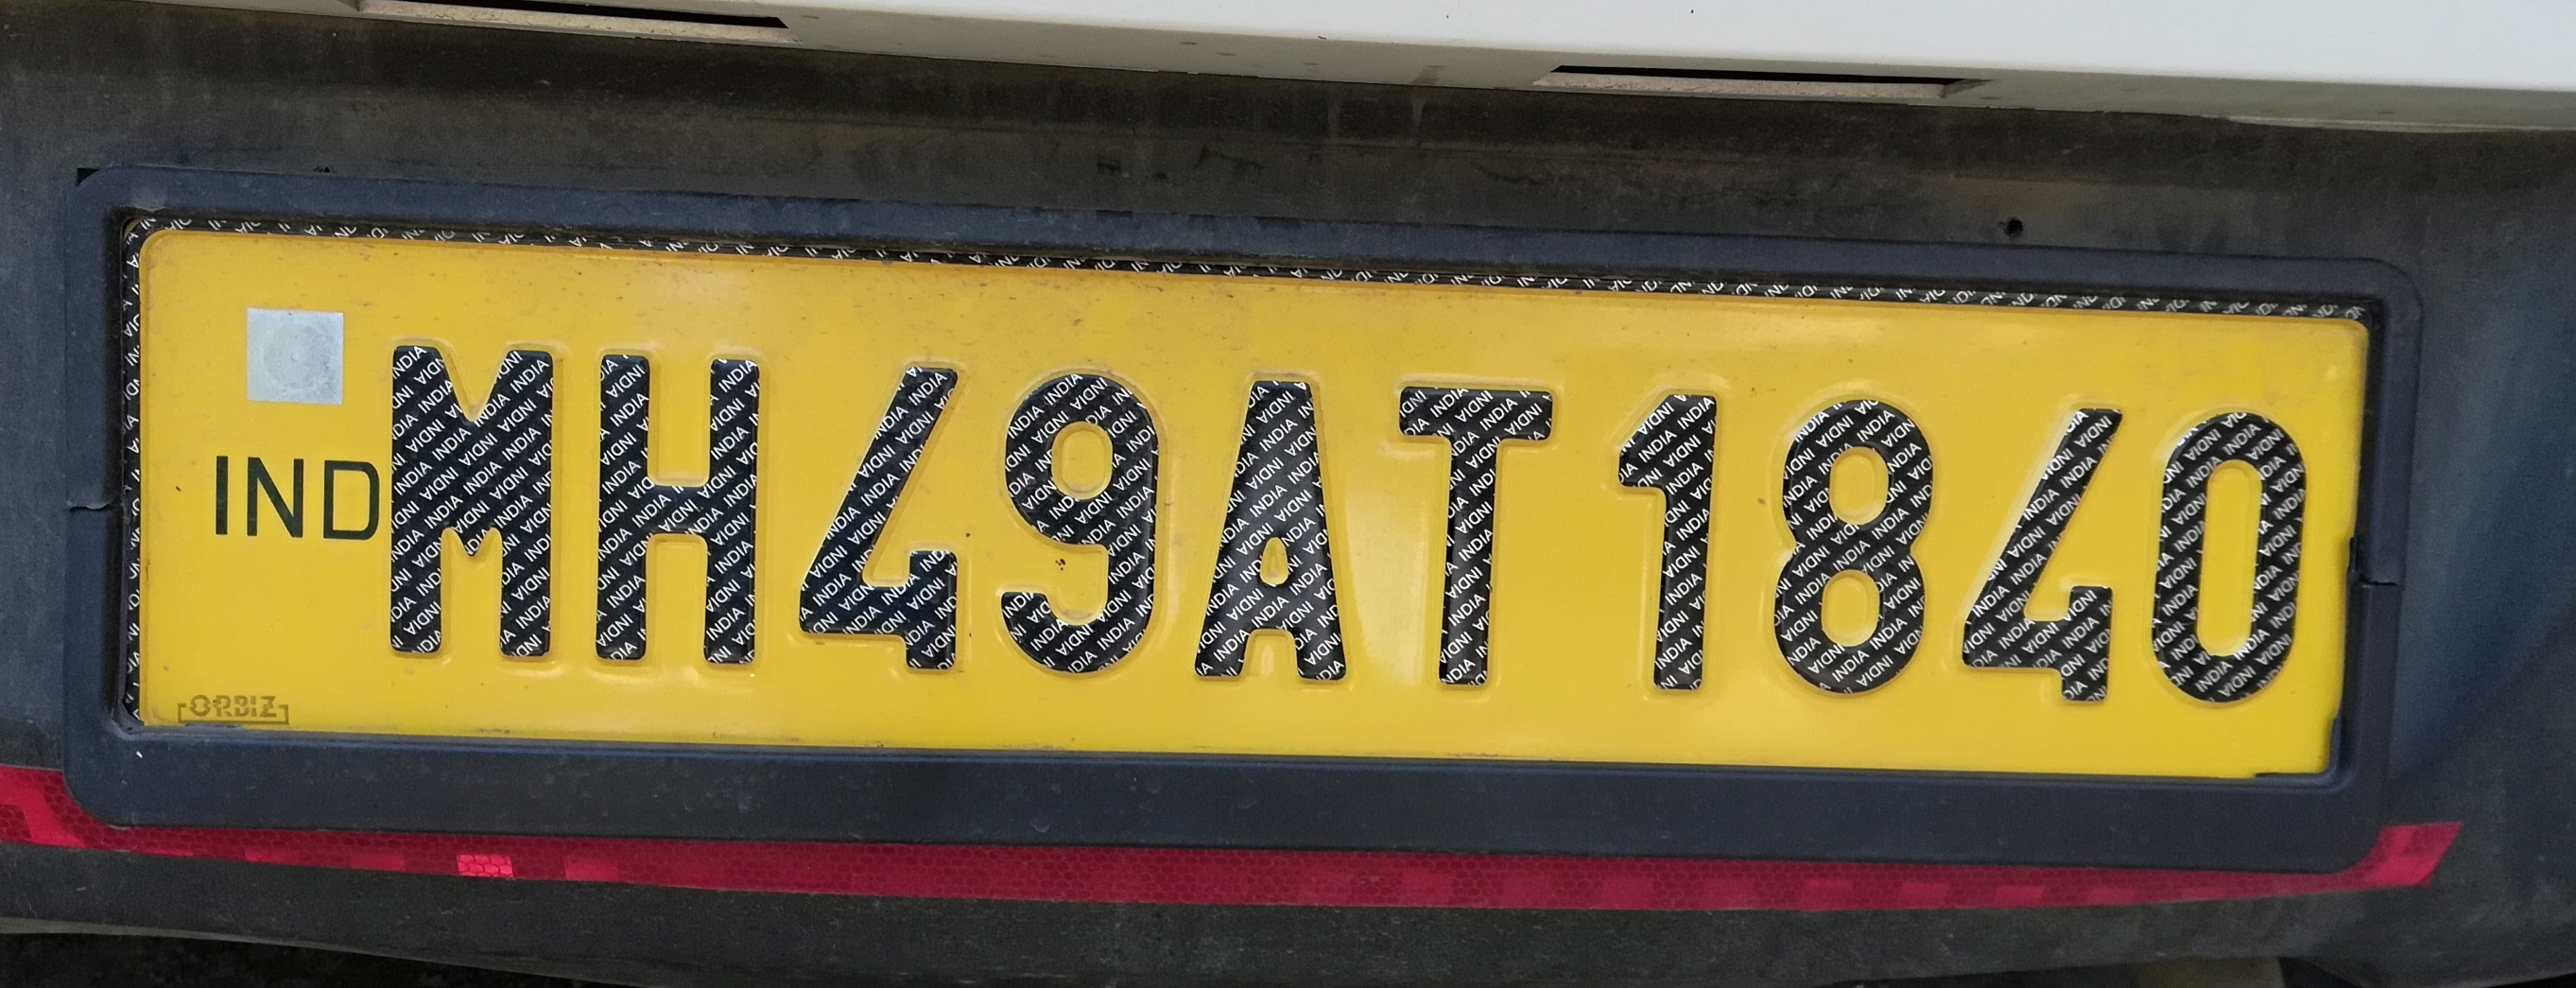numberplate: (69, 177, 2408, 864)
